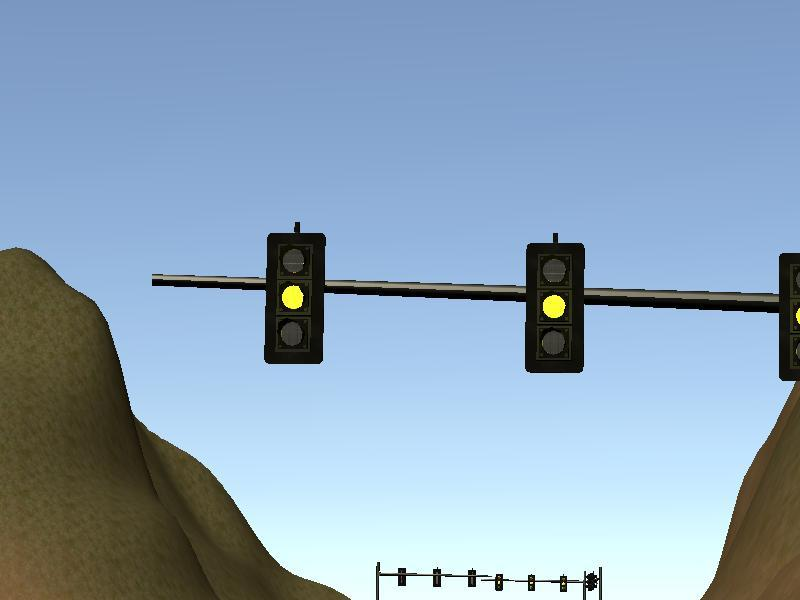Yellow: (265, 233, 324, 364), (525, 243, 584, 374), (494, 573, 504, 592), (527, 573, 536, 592), (559, 574, 567, 594)
